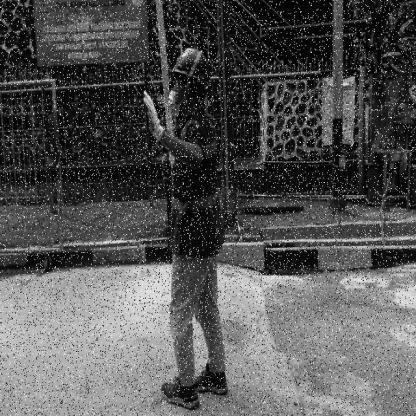boots: (157, 370, 198, 413), (192, 364, 230, 397)
gloves: (140, 88, 164, 143)
helmet: (167, 45, 212, 86)
mask: (166, 86, 188, 116)
